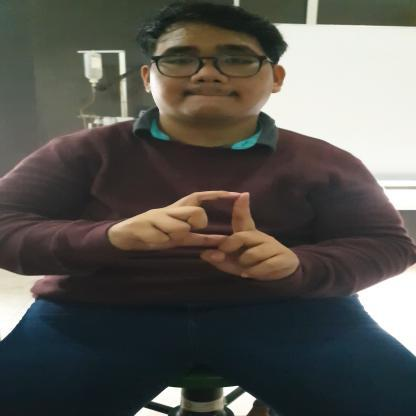D: (121, 192, 298, 282)
